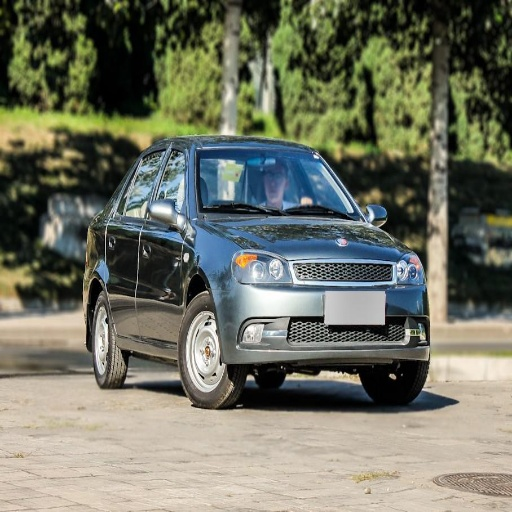front_bumper: (216, 259, 424, 364)
front_right_door: (138, 146, 189, 346)
front_right_light: (232, 245, 291, 288)
hood: (227, 216, 404, 263)
